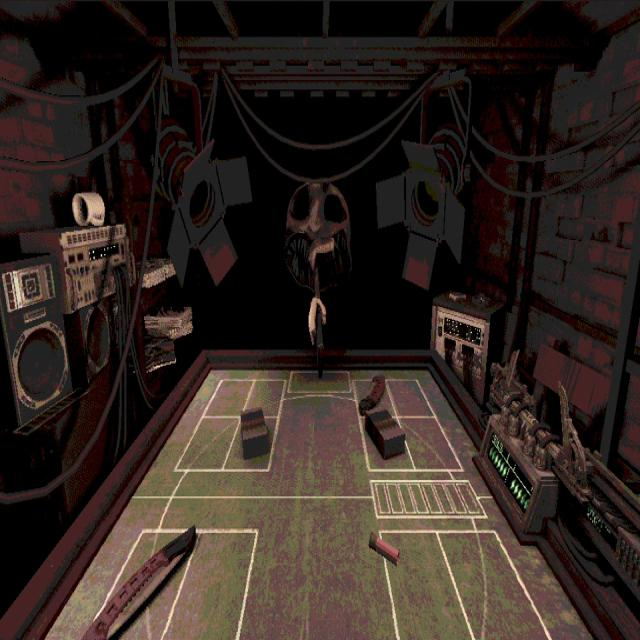ally: (41, 478, 608, 639)
cigar: (365, 408, 405, 459), (241, 409, 271, 456)
doubledamage: (82, 526, 195, 639)
emptyspace: (442, 529, 553, 639), (377, 530, 477, 639), (160, 527, 256, 639), (176, 414, 238, 467), (404, 418, 462, 470), (200, 375, 253, 416), (388, 378, 433, 419), (244, 376, 288, 415)
enemyspace: (141, 363, 496, 477)
